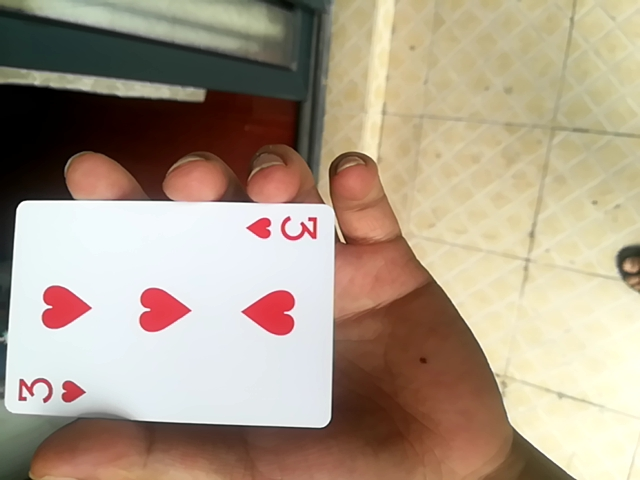hx 3: (2, 198, 337, 434)
